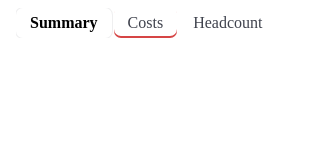
Test case: the keyboard › F2 renames, Enter commits the new name, Escape leaves it
Press F2 in the tab "Summary", box [16,8,112,38]
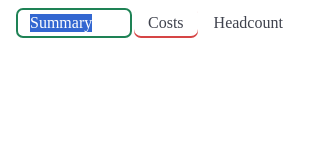
Expected: the field named "Sheet name" holds "Summary"
Replace the text in the field named "Sheet name" with "Totals" at point(74, 23), box [16,8,132,38]
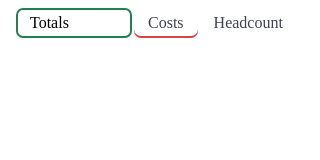
Press Enter in the field named "Sheet name", box [16,8,132,38]
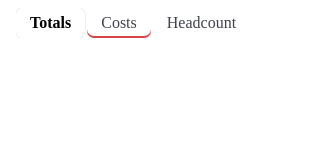
Expected: the tab "Totals" is shown
Press F2 in the tab "Totals", box [16,8,85,38]
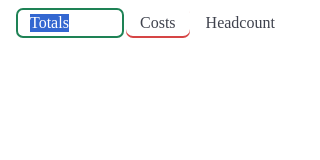
Replace the text in the field named "Sheet name" with "Nope" at point(70, 23), box [16,8,124,38]
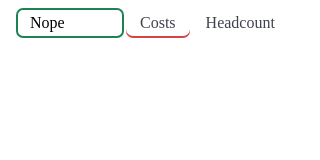
Press Escape in the field named "Sheet name", box [16,8,124,38]
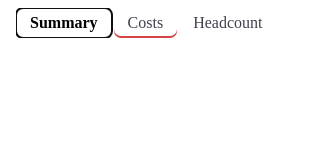
Expected: the field is gone
